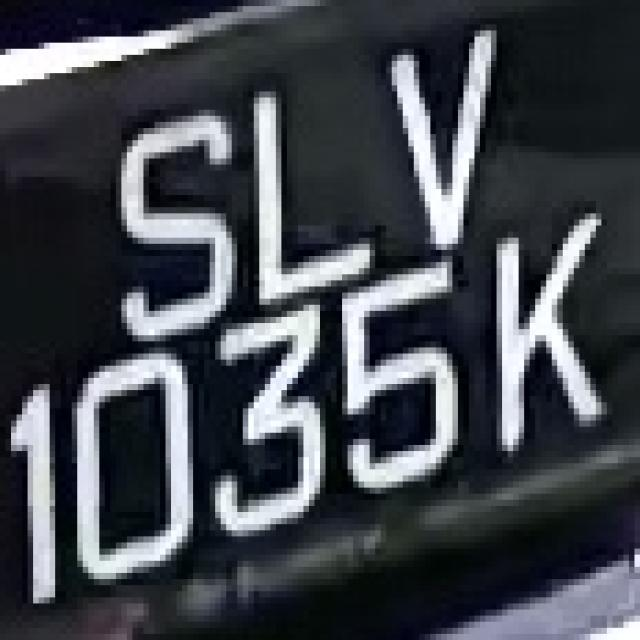0: (66, 335, 199, 591)
1: (11, 384, 66, 628)
3: (210, 280, 331, 579)
5: (320, 262, 469, 518)
K: (474, 220, 602, 457)
L: (254, 61, 380, 293)
S: (99, 104, 232, 348)
V: (370, 6, 530, 244)
